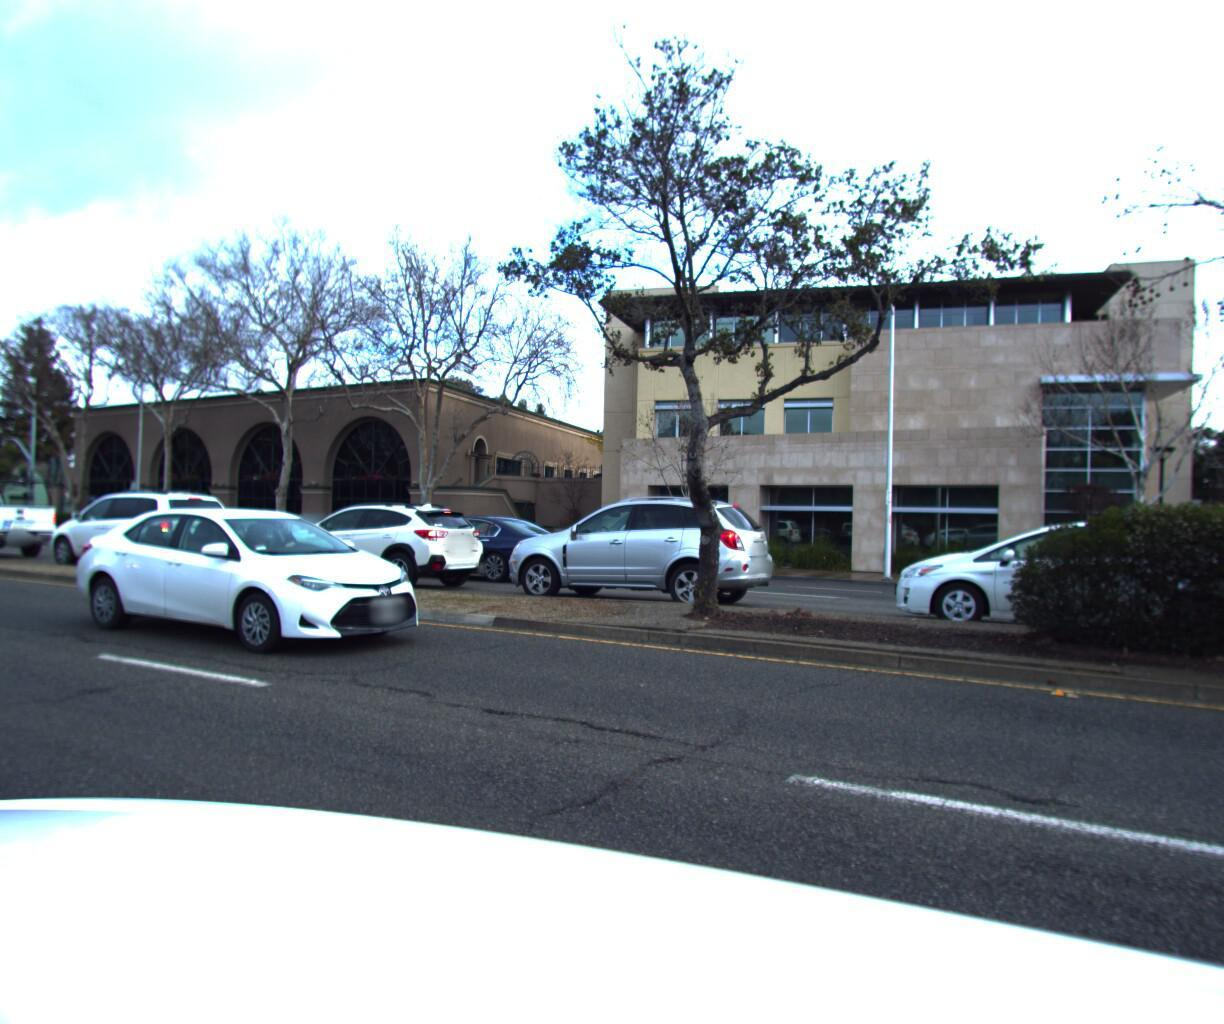car: (68, 500, 460, 669), (882, 520, 1224, 668), (486, 496, 784, 619), (248, 500, 493, 603), (35, 490, 247, 581), (390, 511, 594, 591), (211, 510, 348, 566), (164, 510, 268, 551)
